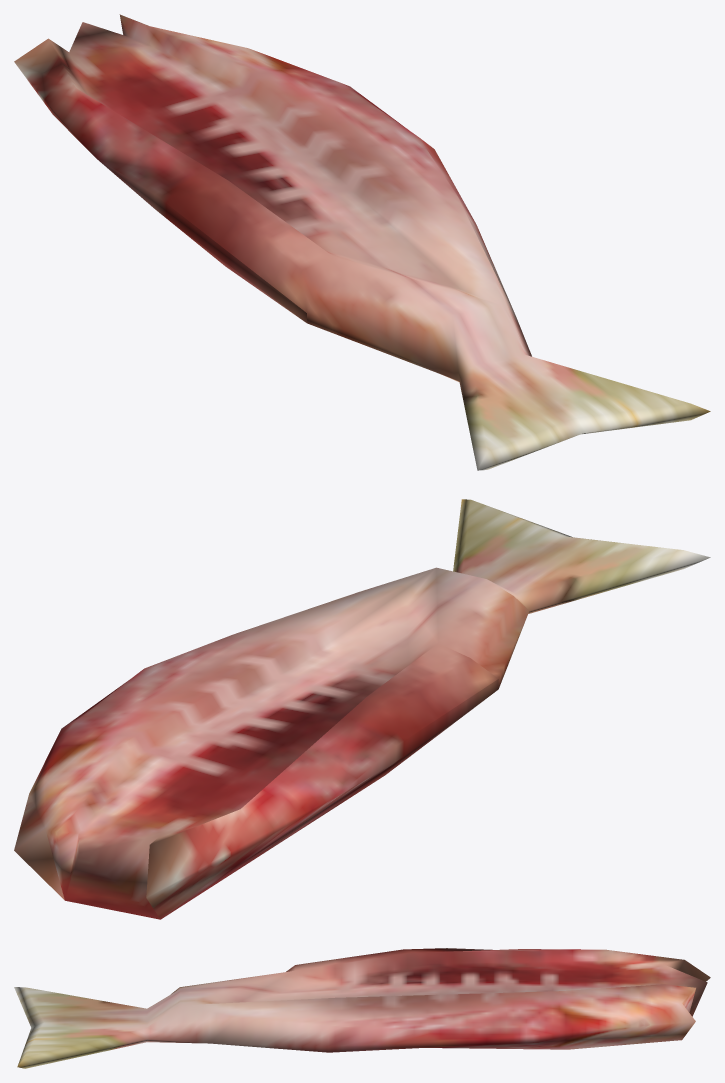
Rendered from PreppedFish.fbx.
3 views of the same model, one above another, from view 1: azimuth 30°, elevation 25°; view 2: azimuth 150°, elevation 25°; view 3: azimuth 270°, elevation 25° (orthographic). The views are drawn at different scales.
Parts seen in each view (by area): view 1: SunFish; view 2: SunFish; view 3: SunFish.
Part boxes in pixels (<box>): SunFish: <box>14,14,710,470</box>; SunFish: <box>14,499,710,919</box>; SunFish: <box>14,948,710,1068</box>.
Bounding box in the file's own units: 16.36 × 6.08 × 53.66.
